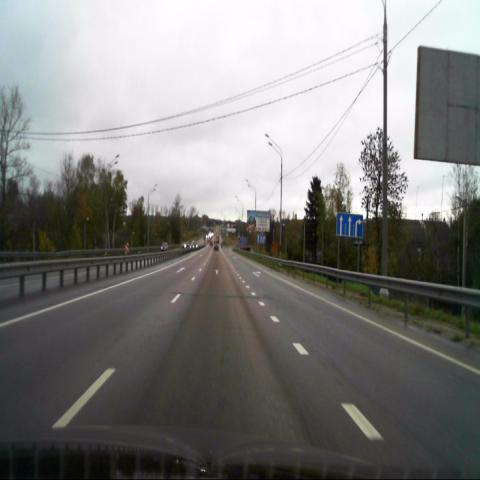5_15_1: (336, 211, 363, 239)
